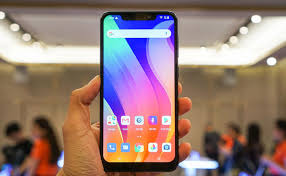vsmart: (98, 9, 179, 172)
